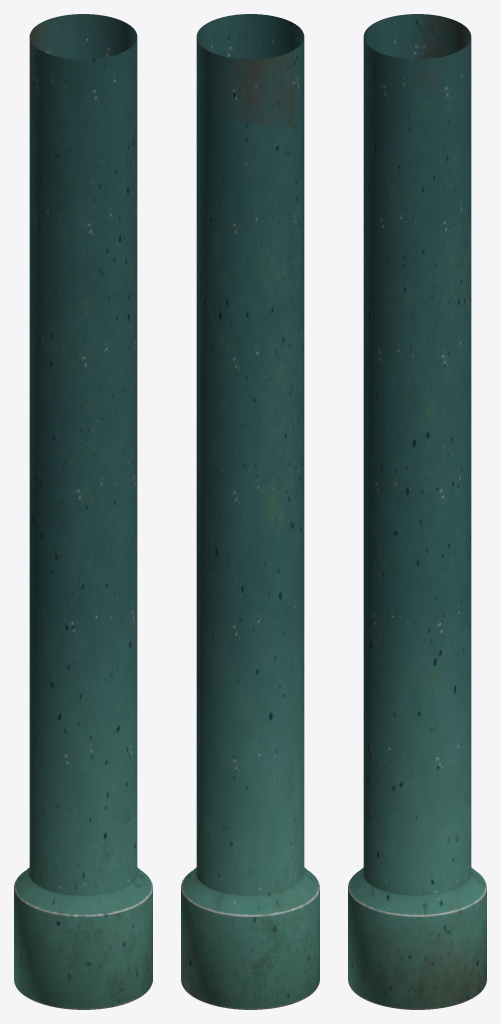
The model's file is Obstacle.glb.
3 renders of one model, left to right at view 1: azimuth 30°, elevation 25°; view 2: azimuth 150°, elevation 25°; view 3: azimuth 270°, elevation 25°, orthographic.
Parts seen in each view (by area): view 1: Obstacle; view 2: Obstacle; view 3: Obstacle.
Part boxes in pixels (<box>): Obstacle: <box>14,14,152,1009</box>; Obstacle: <box>181,14,319,1009</box>; Obstacle: <box>348,14,486,1009</box>.
Size of the model in its own units: 3 by 22.5 by 3.
Materials: 1 (1 with a texture image).
